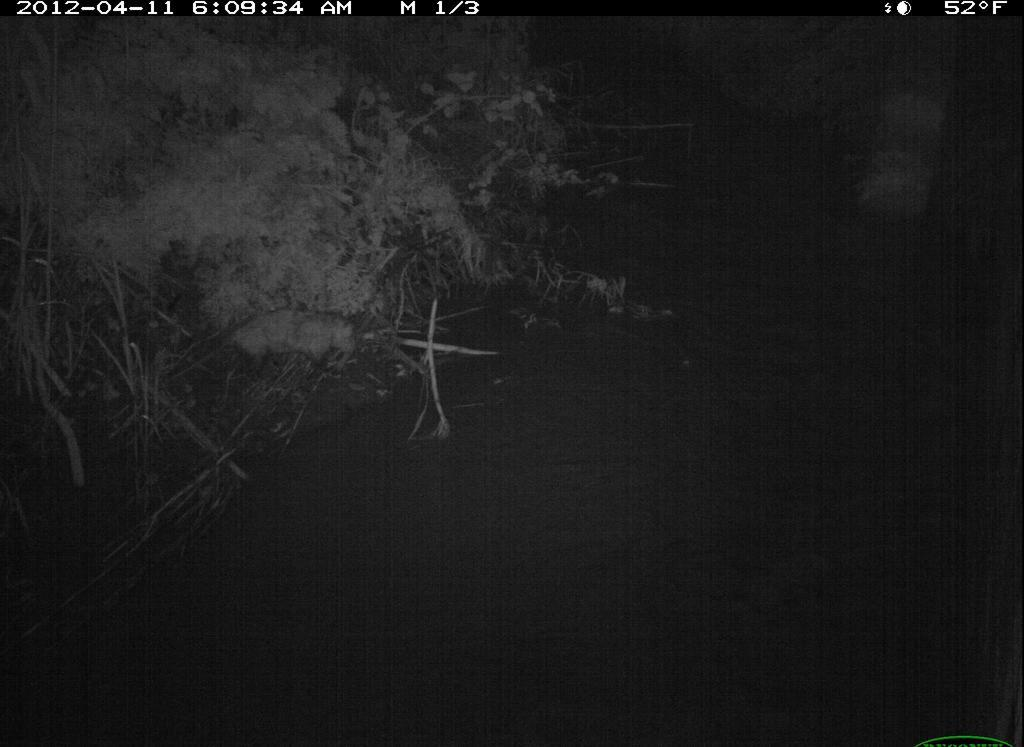opossum: (159, 303, 362, 387)
